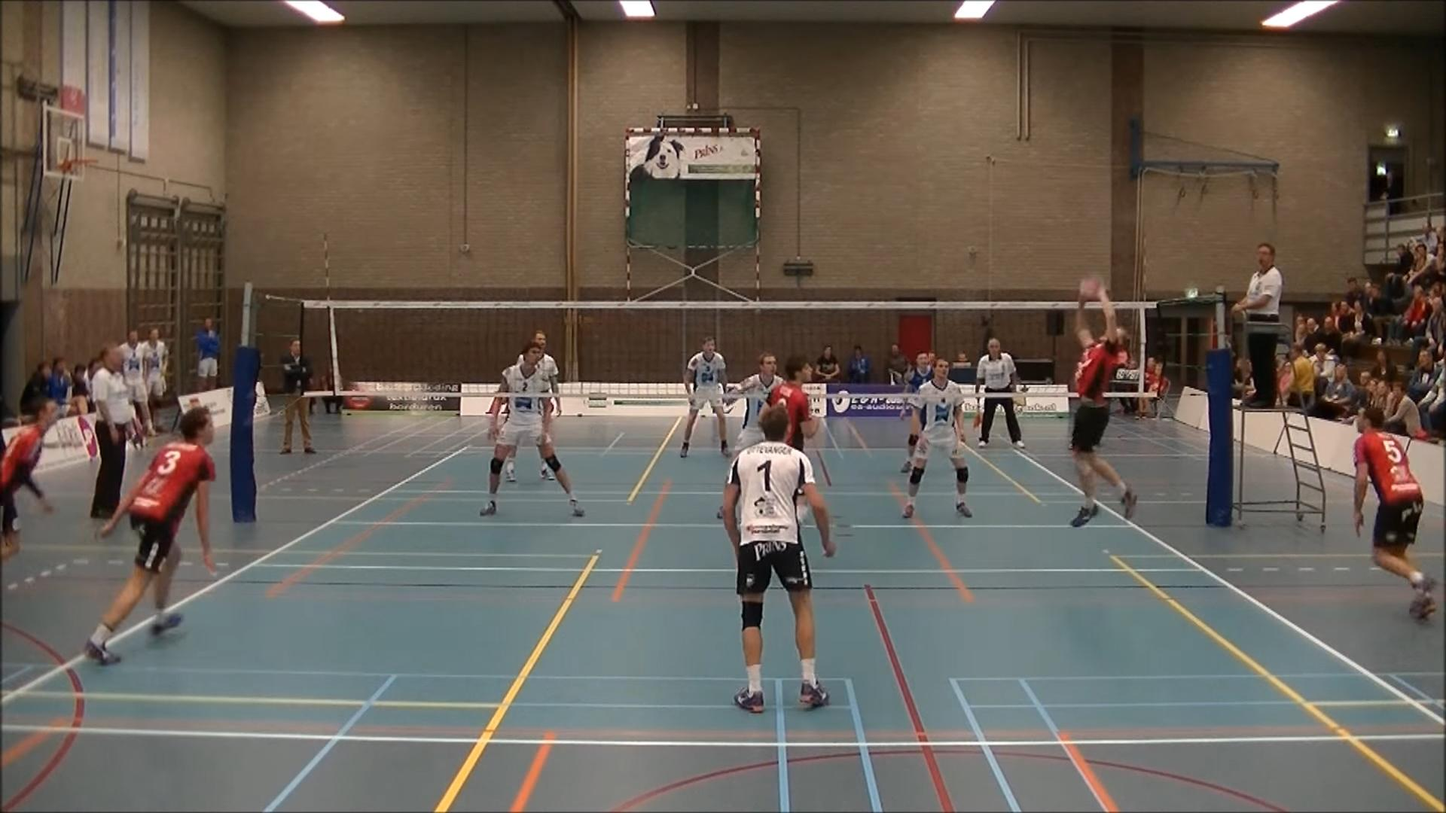alzata: (1061, 277, 1154, 536)
